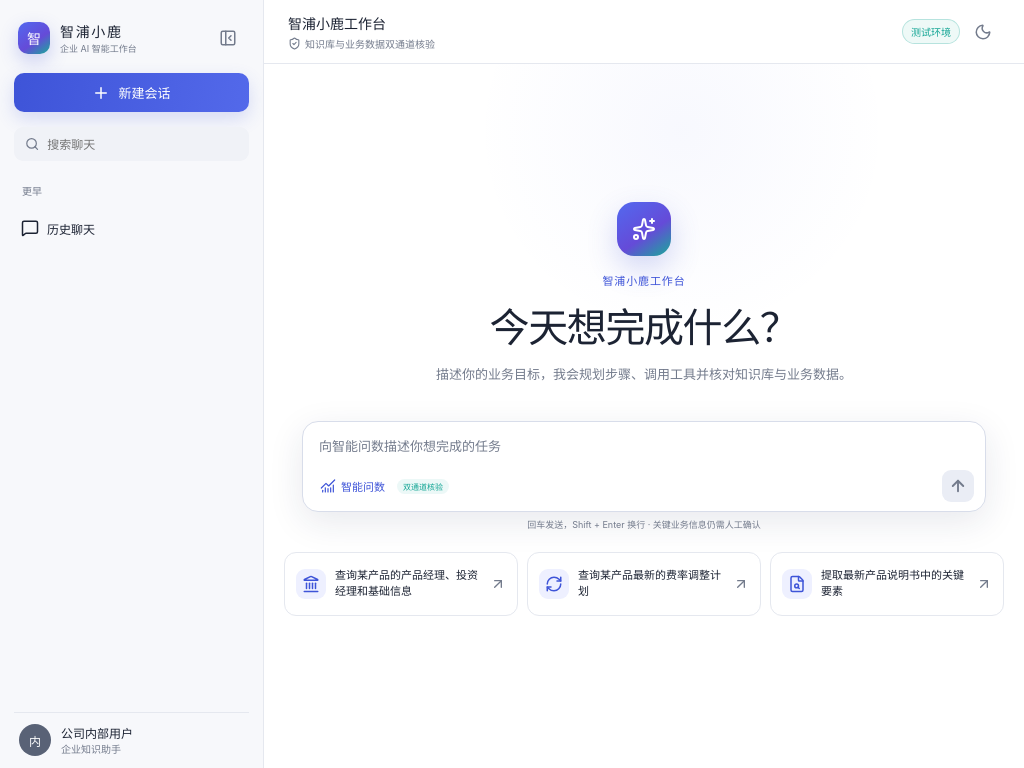
it: App › 加载历史答案并支持反馈、重新生成和新聊天
Click the button "历史聊天": (117, 228) [14,211,220,245]
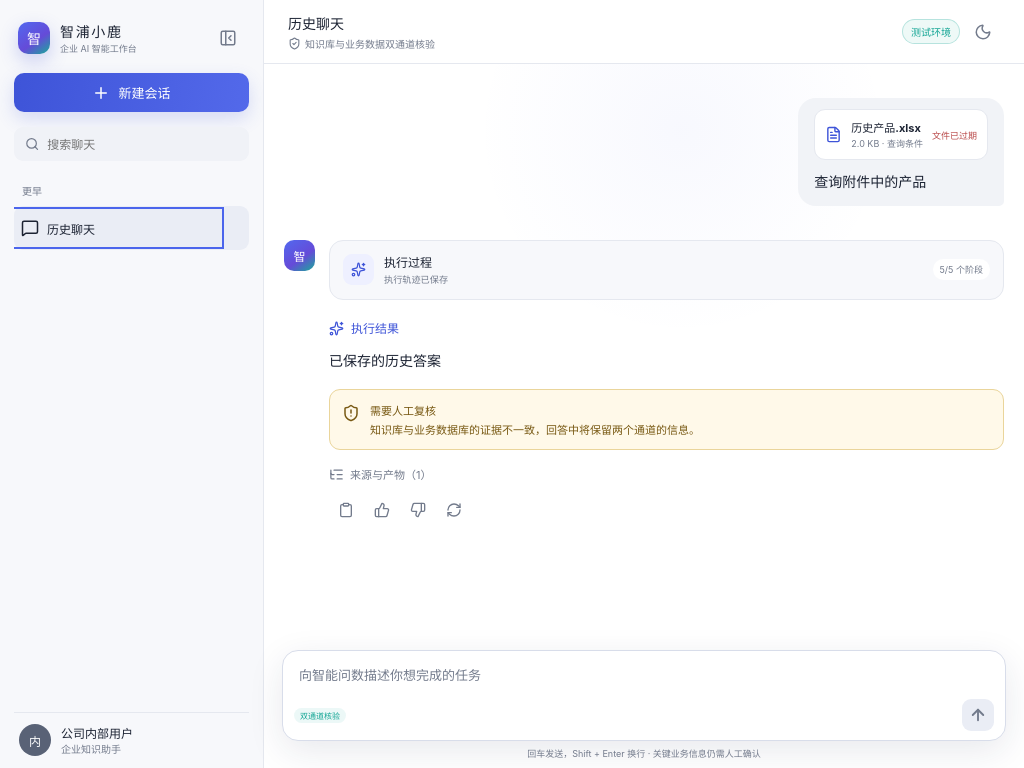
Result: the text "历史产品.xlsx" is shown at [851,119,923,135]
Result: the text "文件已过期" is shown at [932,129,977,142]
Result: the text "已保存的历史答案" is shown at [329,352,441,368]
Click the button named "喜欢这个回答": (382, 510) [365,493,399,527]
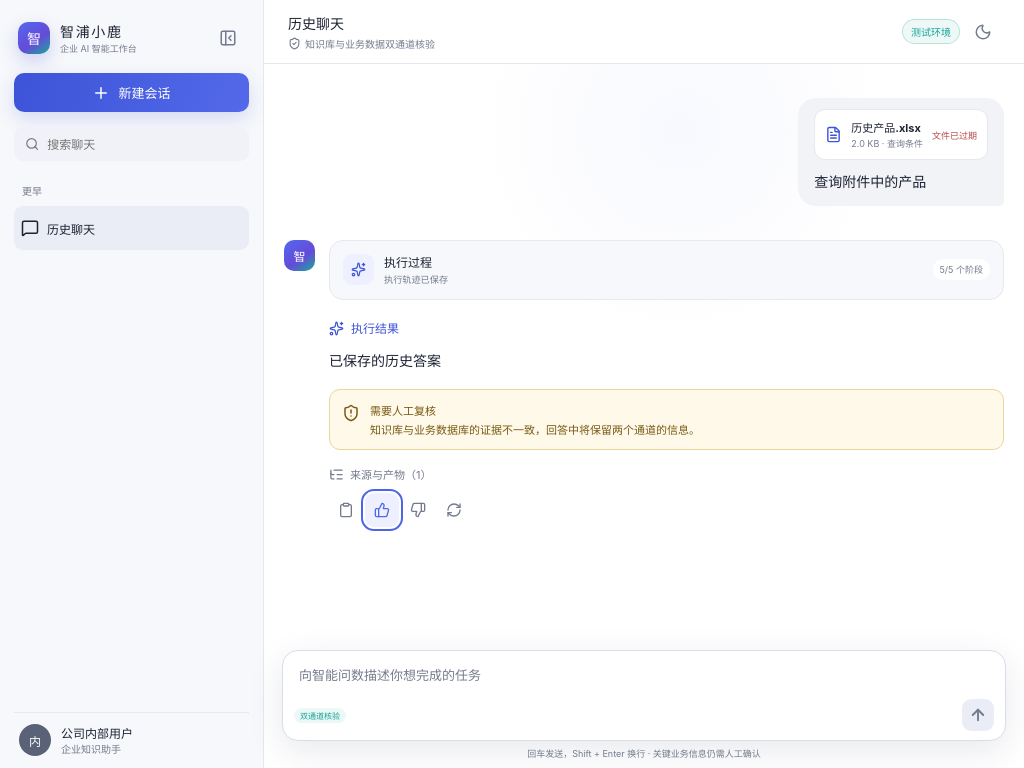
Click the button named "重新生成回答": (454, 510) [437,493,471,527]
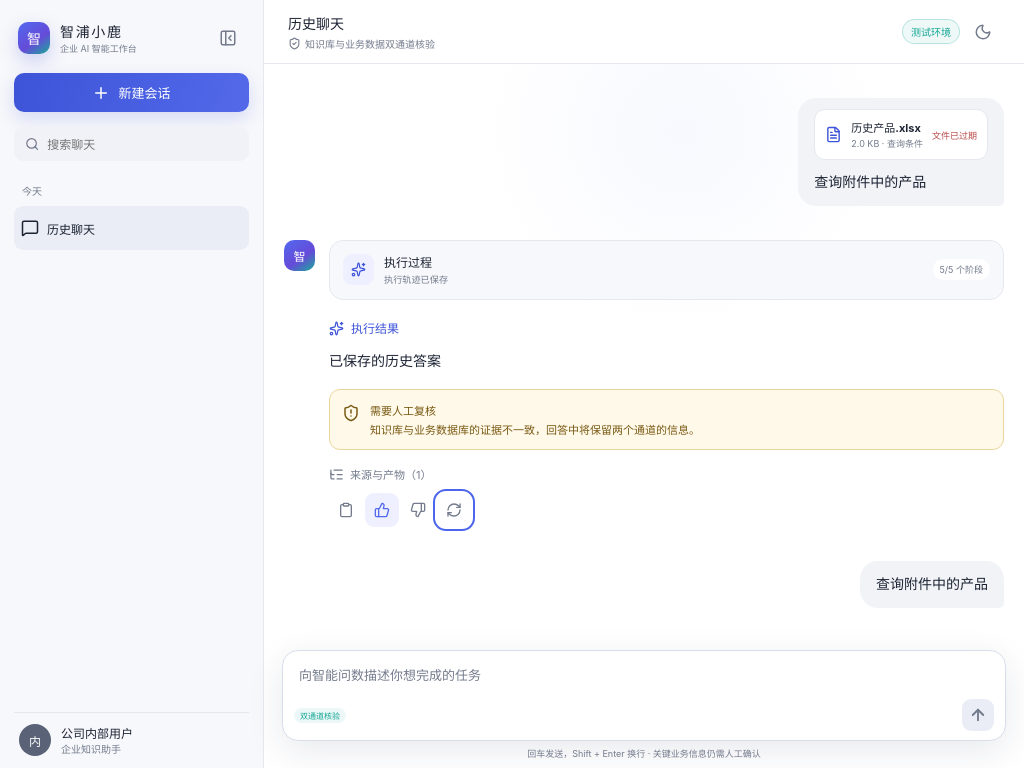
Result: the text "历史产品.xlsx" is shown once at [851,119,923,135]
Result: the text "查询附件中的产品" is shown 2 times at [814,173,926,190]; [876,572,988,596]
Result: the heading "今天" is shown at [22,184,42,196]
Click the button "新建会话": (132, 92) [14,73,249,112]
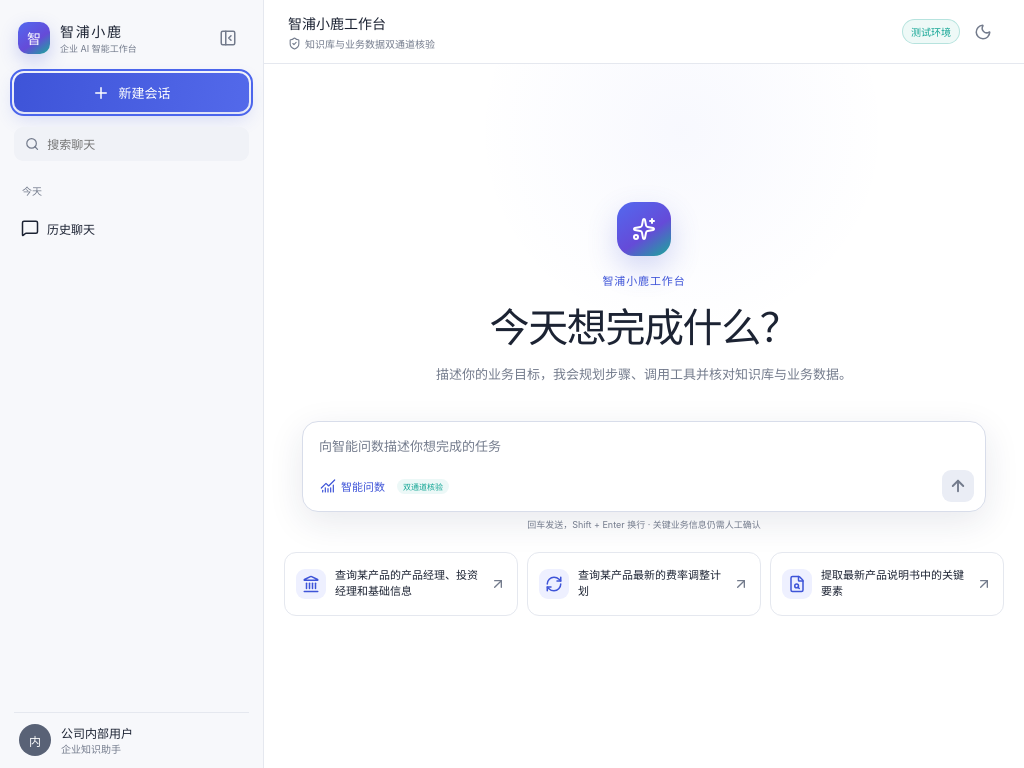
Result: the heading "今天想完成什么？" is shown at [490,296,798,354]
